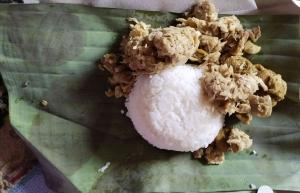daging: (148, 30, 246, 57)
makanan_berpati: (156, 84, 199, 142)
